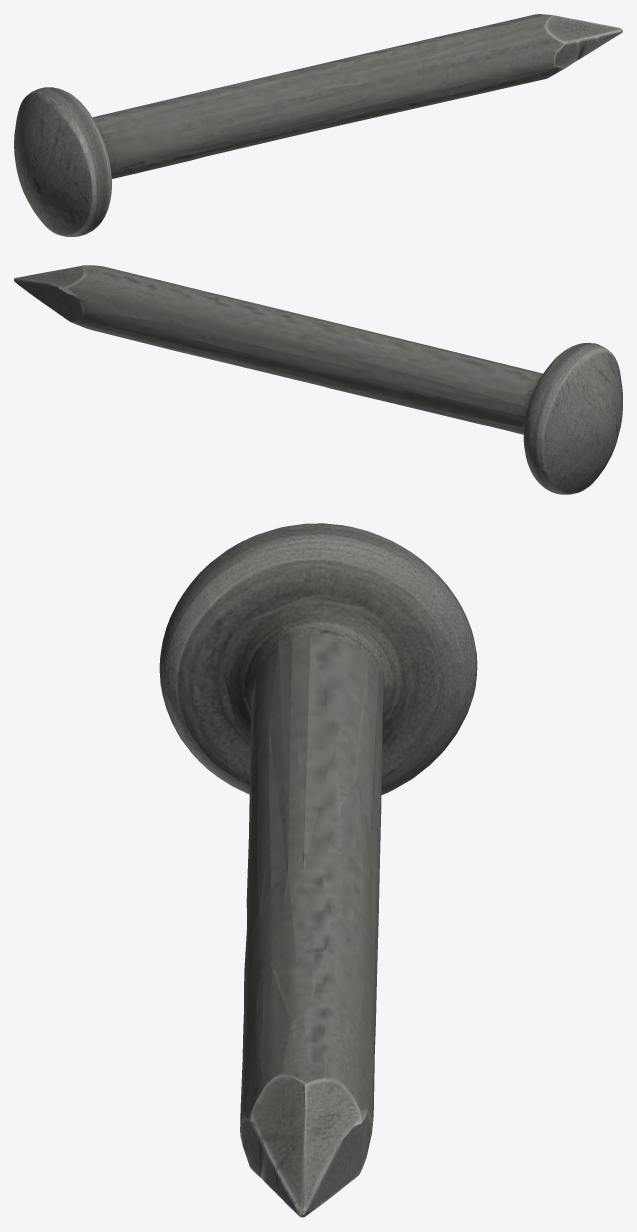
Rendered from nail.glb.
3 renders of one model, top to bottom at view 1: azimuth 30°, elevation 25°; view 2: azimuth 150°, elevation 25°; view 3: azimuth 270°, elevation 25°, orthographic. The views are drawn at different scales.
Visible parts, largest first — view 1: output_unwrapped; view 2: output_unwrapped; view 3: output_unwrapped.
Boxes of the visible parts, box(x1,y1,x2,y2) form: output_unwrapped: box(14, 14, 622, 236); output_unwrapped: box(14, 265, 622, 494); output_unwrapped: box(159, 523, 477, 1217).
Size of the model in its own units: 1.9 by 0.4219 by 0.4423.
1 material, 1 textured.
